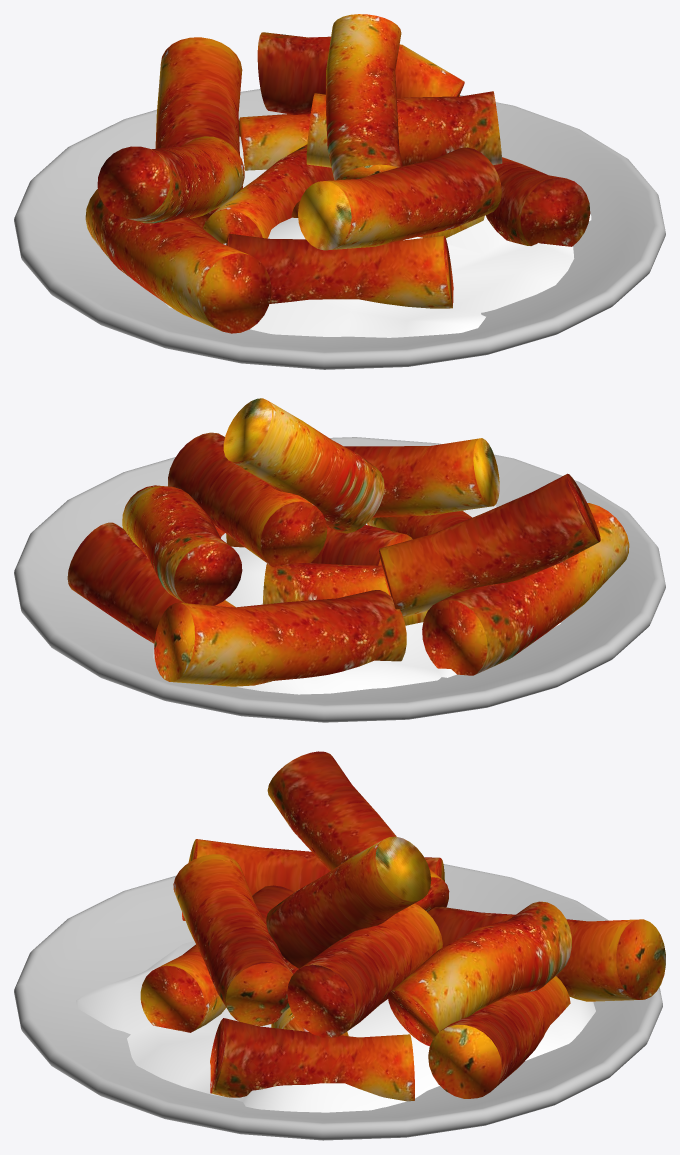
Rendered from ddeockbbokki.fbx.
The picture shows the model from 3 angles, top to bottom: view 1: azimuth 30°, elevation 25°; view 2: azimuth 150°, elevation 25°; view 3: azimuth 270°, elevation 25°; orthographic projection.
Parts seen in each view (by area): view 1: Group13, Group14, Group4, Group9, Group2, Group11, Group10, Group6, Group7, Group12, Group5, Group3 (+1 smaller); view 2: Group13, Group6, Group10, Group9, Group11, Group7, Group12, Group4, Group8, Group14, Group3, Group1 (+1 smaller); view 3: Group13, Group14, Group12, Group5, Group4, Group11, Group7, Group8, Group6, Group10, Group2, Group9.
Part boxes in pixels (x1,y1,x2,y2): Group13: [14, 89, 665, 369]; Group14: [165, 136, 591, 337]; Group4: [298, 147, 501, 250]; Group9: [85, 189, 271, 333]; Group2: [226, 233, 453, 308]; Group11: [326, 14, 402, 180]; Group10: [97, 136, 244, 223]; Group6: [155, 37, 242, 227]; Group7: [306, 91, 502, 167]; Group12: [257, 32, 464, 114]; Group5: [486, 157, 590, 246]; Group3: [202, 144, 333, 243]; Group13: [14, 437, 665, 722]; Group6: [154, 590, 406, 686]; Group10: [379, 473, 600, 617]; Group9: [422, 503, 629, 675]; Group11: [223, 398, 384, 533]; Group7: [168, 432, 327, 566]; Group12: [122, 485, 242, 605]; Group4: [344, 438, 499, 517]; Group8: [67, 522, 235, 643]; Group14: [153, 505, 560, 694]; Group3: [262, 563, 427, 625]; Group1: [226, 524, 412, 565]; Group13: [14, 864, 662, 1140]; Group14: [76, 941, 595, 1112]; Group12: [388, 901, 571, 1046]; Group5: [210, 1018, 414, 1101]; Group4: [173, 854, 293, 1026]; Group11: [266, 836, 431, 968]; Group7: [287, 903, 442, 1038]; Group8: [428, 976, 570, 1098]; Group6: [428, 907, 665, 1001]; Group10: [267, 751, 449, 912]; Group2: [140, 885, 294, 1032]; Group9: [182, 839, 444, 920].
Size of the model in its own units: 18580 by 7537 by 18662.
